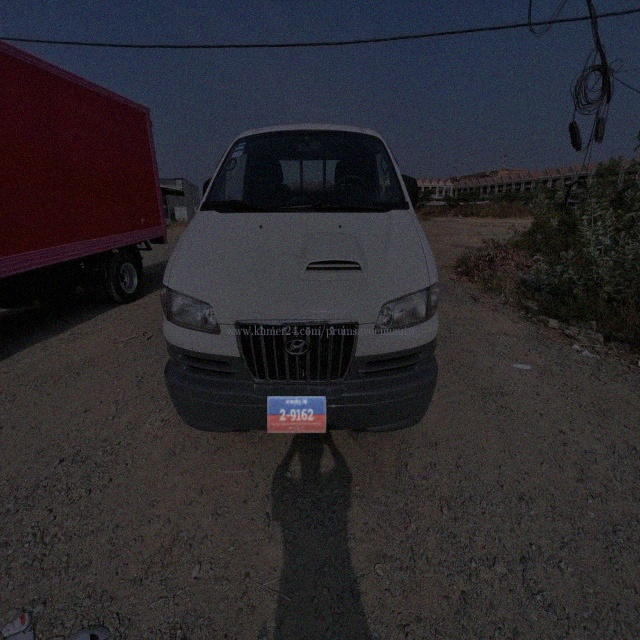Plate Number: (267, 397, 327, 433)
